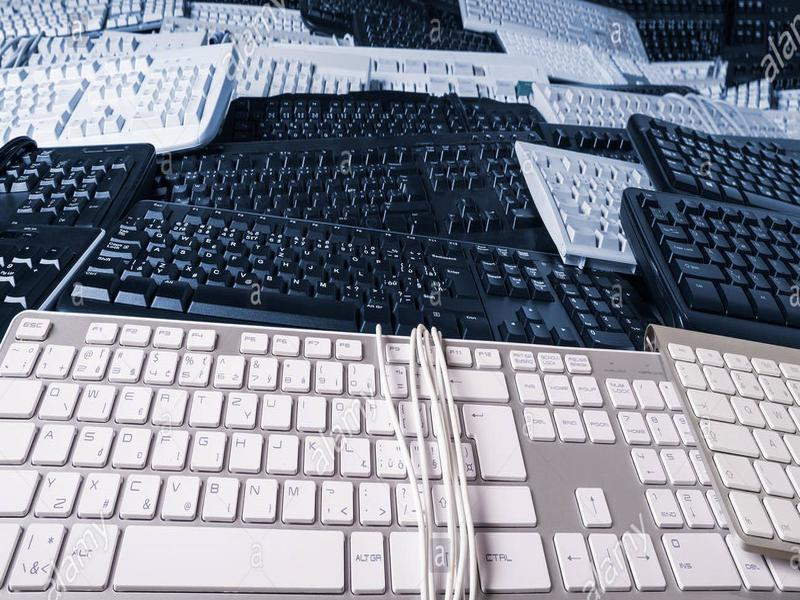keyboard: (1, 304, 800, 600), (70, 202, 639, 347), (139, 134, 552, 246), (617, 188, 800, 338), (1, 42, 241, 153), (615, 113, 800, 213), (523, 73, 800, 130)
